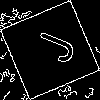J: (25, 25, 78, 66)
